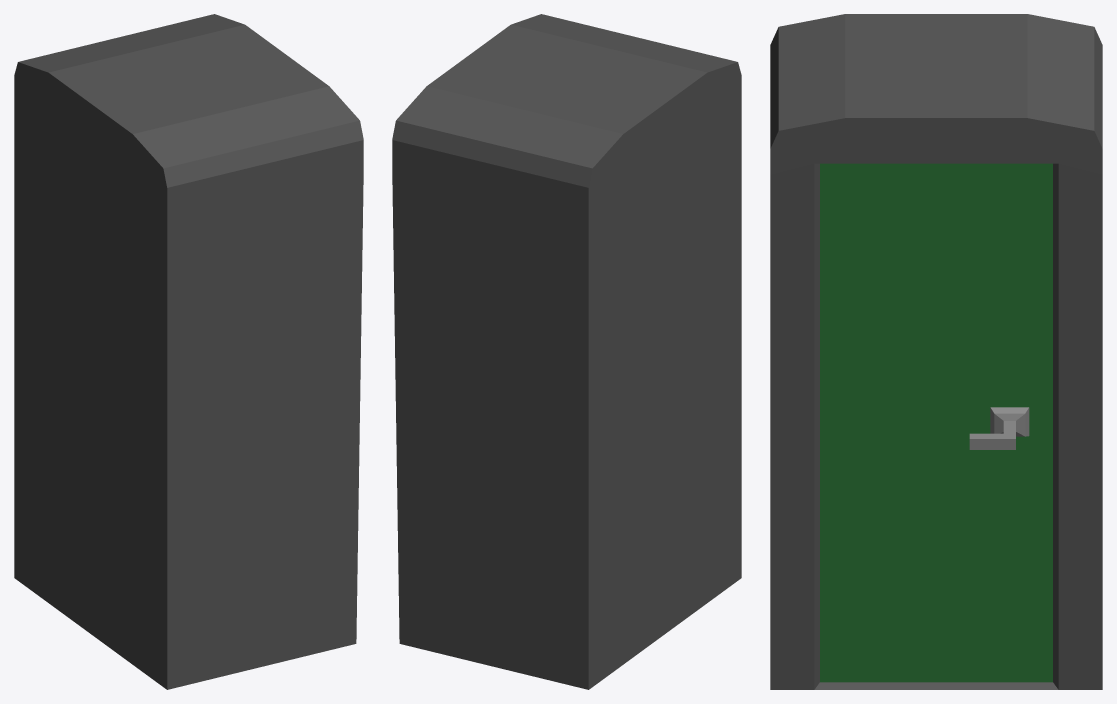
The model's file is Door1.fbx.
3 renders of one model, left to right at view 1: azimuth 30°, elevation 25°; view 2: azimuth 150°, elevation 25°; view 3: azimuth 270°, elevation 25°, orthographic. The views are drawn at different scales.
Parts seen in each view (by area): view 1: Door1; view 2: Door1; view 3: Door1.
Part boxes in pixels (x1,y1,x2,y2): Door1: [14, 14, 363, 689]; Door1: [392, 14, 741, 689]; Door1: [770, 14, 1102, 689].
Size of the model in its own units: 140 by 313 by 163.
